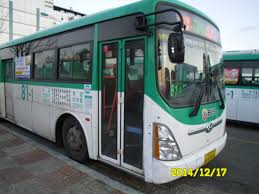entrance: (98, 35, 145, 177)
